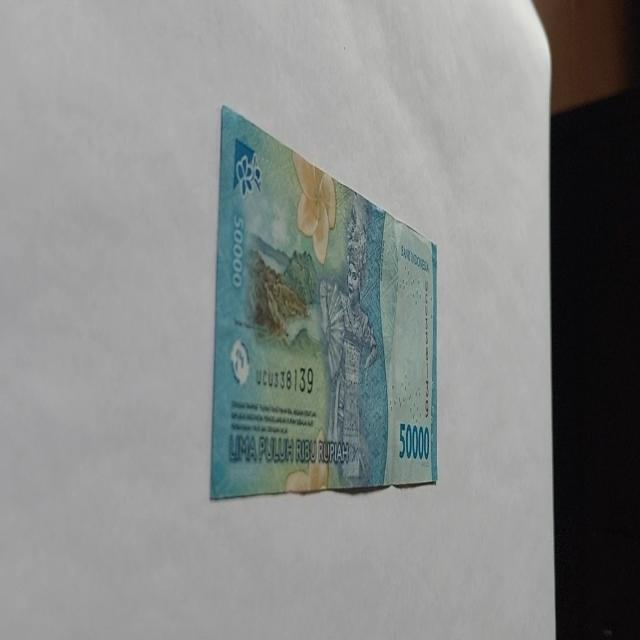lima puluh ribu rupiah: (208, 103, 438, 501)
